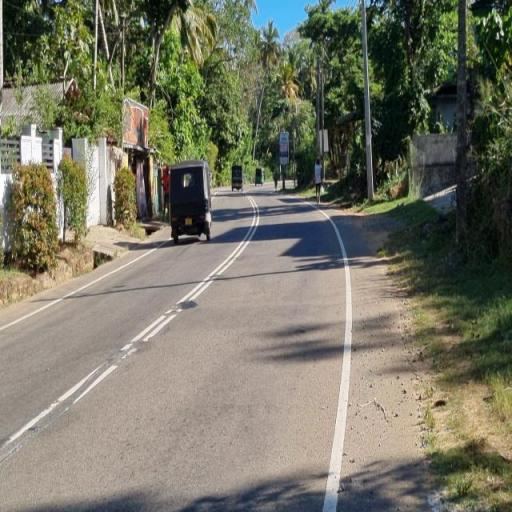double_white_line: (120, 198, 261, 362)
